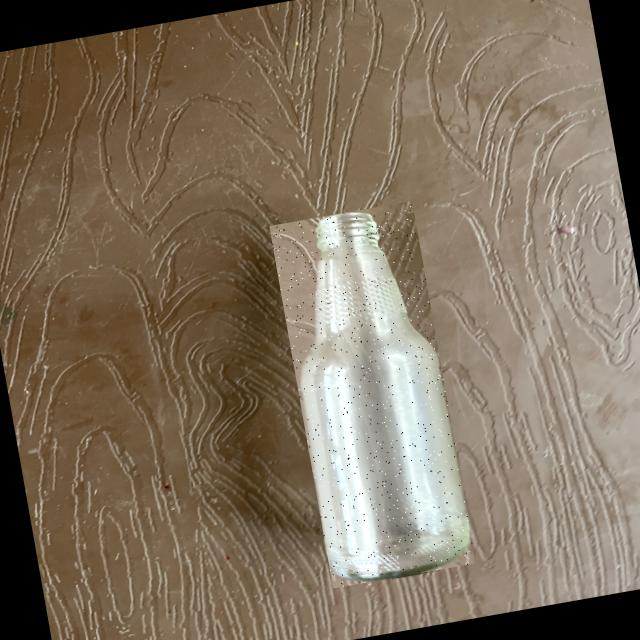Glass_Bottle: (300, 212, 469, 580)
